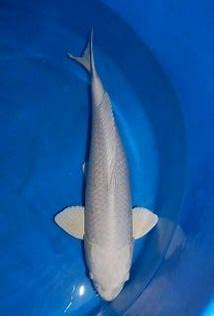white: (55, 26, 159, 302)
